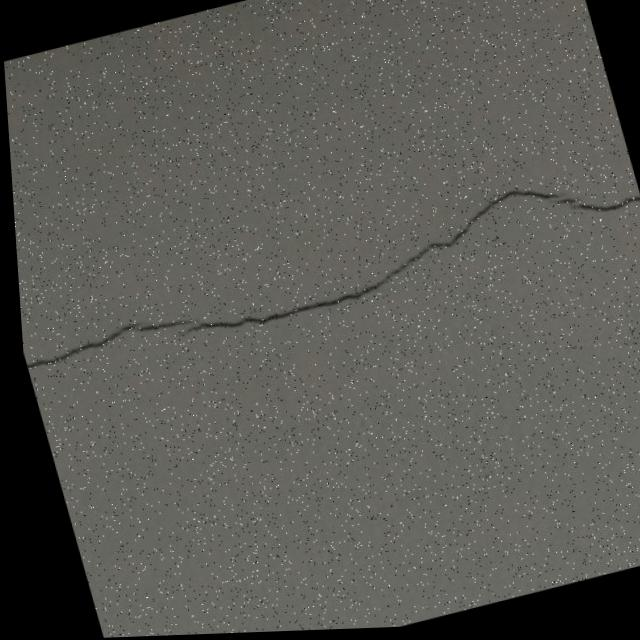Crack: (9, 152, 640, 398)
